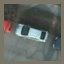car: (16, 21, 49, 44)
